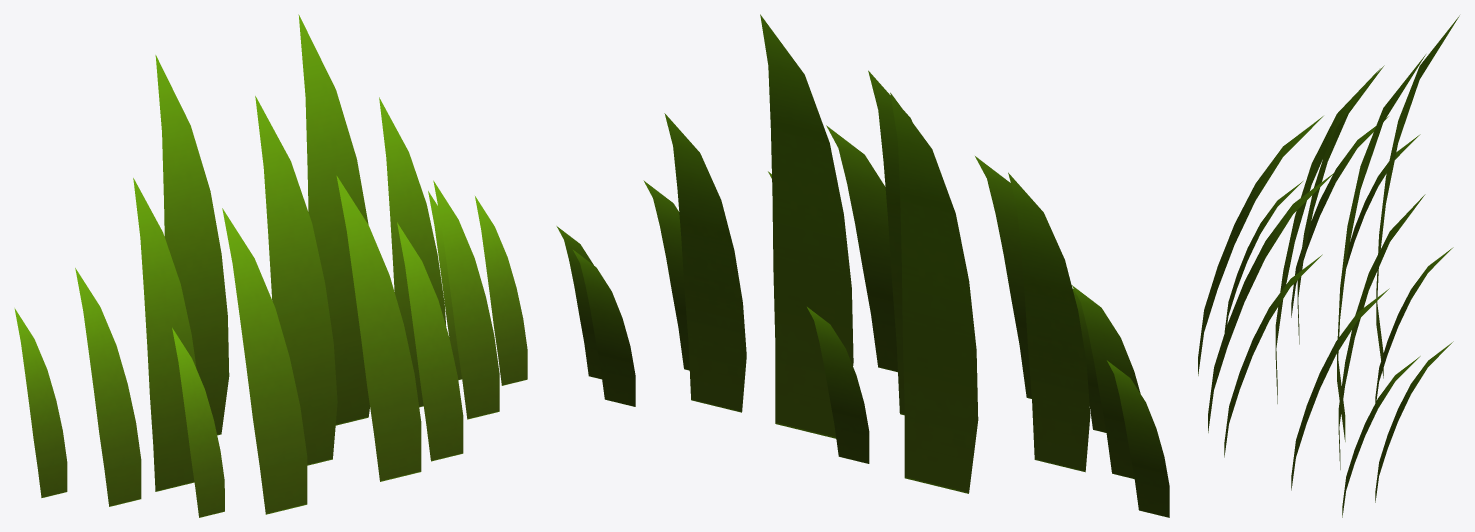
File: MESH_Bush01.fbx
The picture shows the model from 3 angles, left to right: view 1: azimuth 30°, elevation 25°; view 2: azimuth 150°, elevation 25°; view 3: azimuth 270°, elevation 25°; orthographic projection. The views are drawn at different scales.
Parts seen in each view (by area): view 1: MESH_Bush01; view 2: MESH_Bush01; view 3: MESH_Bush01.
Part boxes in pixels (x1,y1,x2,y2): MESH_Bush01: (14, 14, 527, 517); MESH_Bush01: (556, 14, 1169, 517); MESH_Bush01: (1198, 15, 1459, 517).
Size of the model in its own units: 0.8785 by 0.6518 by 0.4129.
